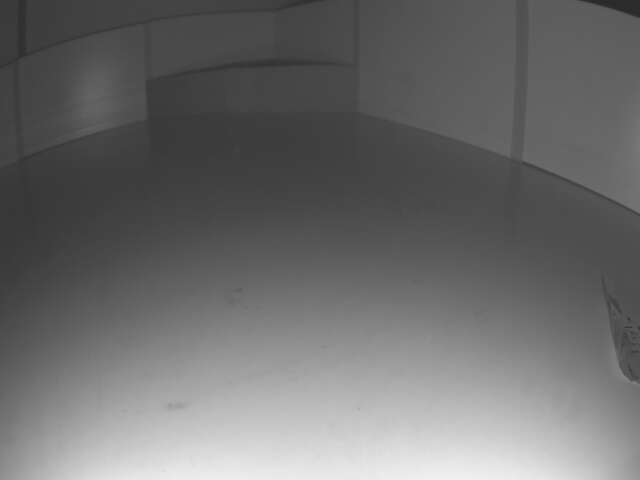Point: (145, 65, 358, 115)
